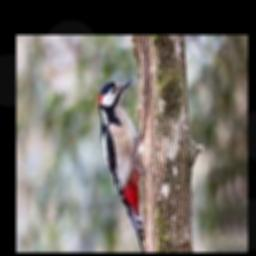Woodpecker: (99, 77, 145, 253)
